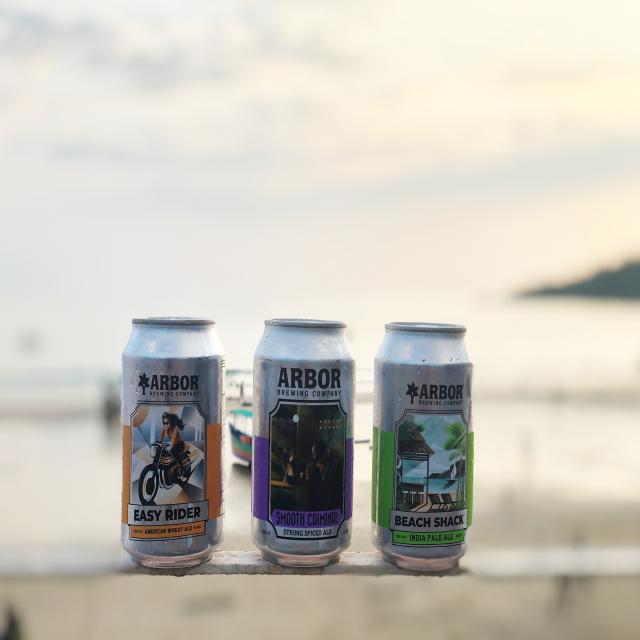can: (122, 316, 226, 572), (250, 318, 354, 566), (372, 320, 473, 574)
